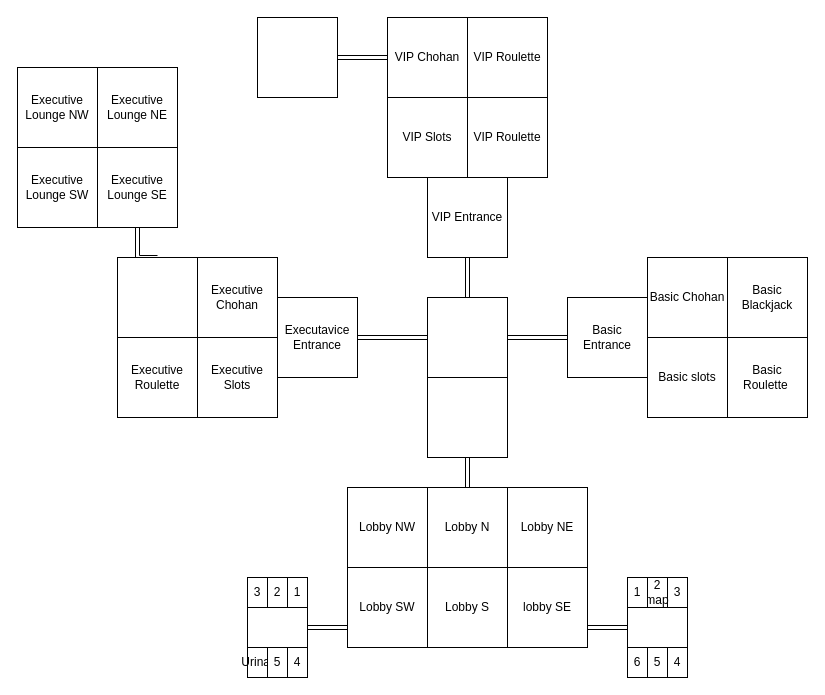
Image size: 825x695. Some labels were removed from this diagram. Each missing label, with the centre of its shape:
Bar N: the point at 467,337
Bar S (Gets 100 chips when you talk to attendent): the point at 467,417
Executive Blackjack: the point at 157,297
Mens bathroom: the point at 277,627
VIP Resturant: the point at 297,57
Womens bathroom: the point at 657,627
